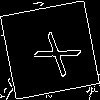X: (25, 25, 82, 78)
